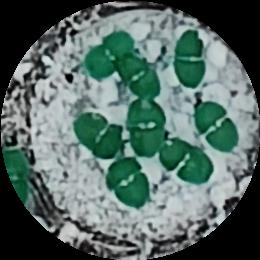Basil: (71, 110, 125, 161), (81, 31, 136, 80), (126, 101, 167, 157), (194, 103, 239, 152), (159, 140, 210, 183), (120, 54, 161, 103), (175, 32, 209, 90), (108, 159, 148, 207)
